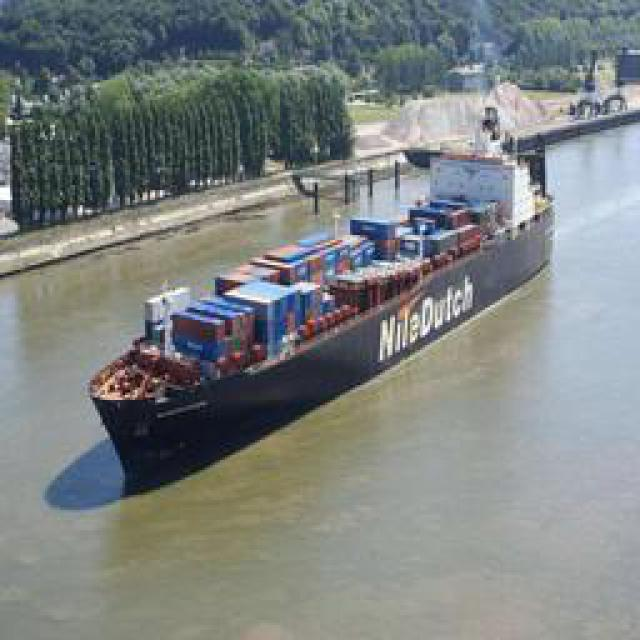Ship: (84, 119, 564, 504)
